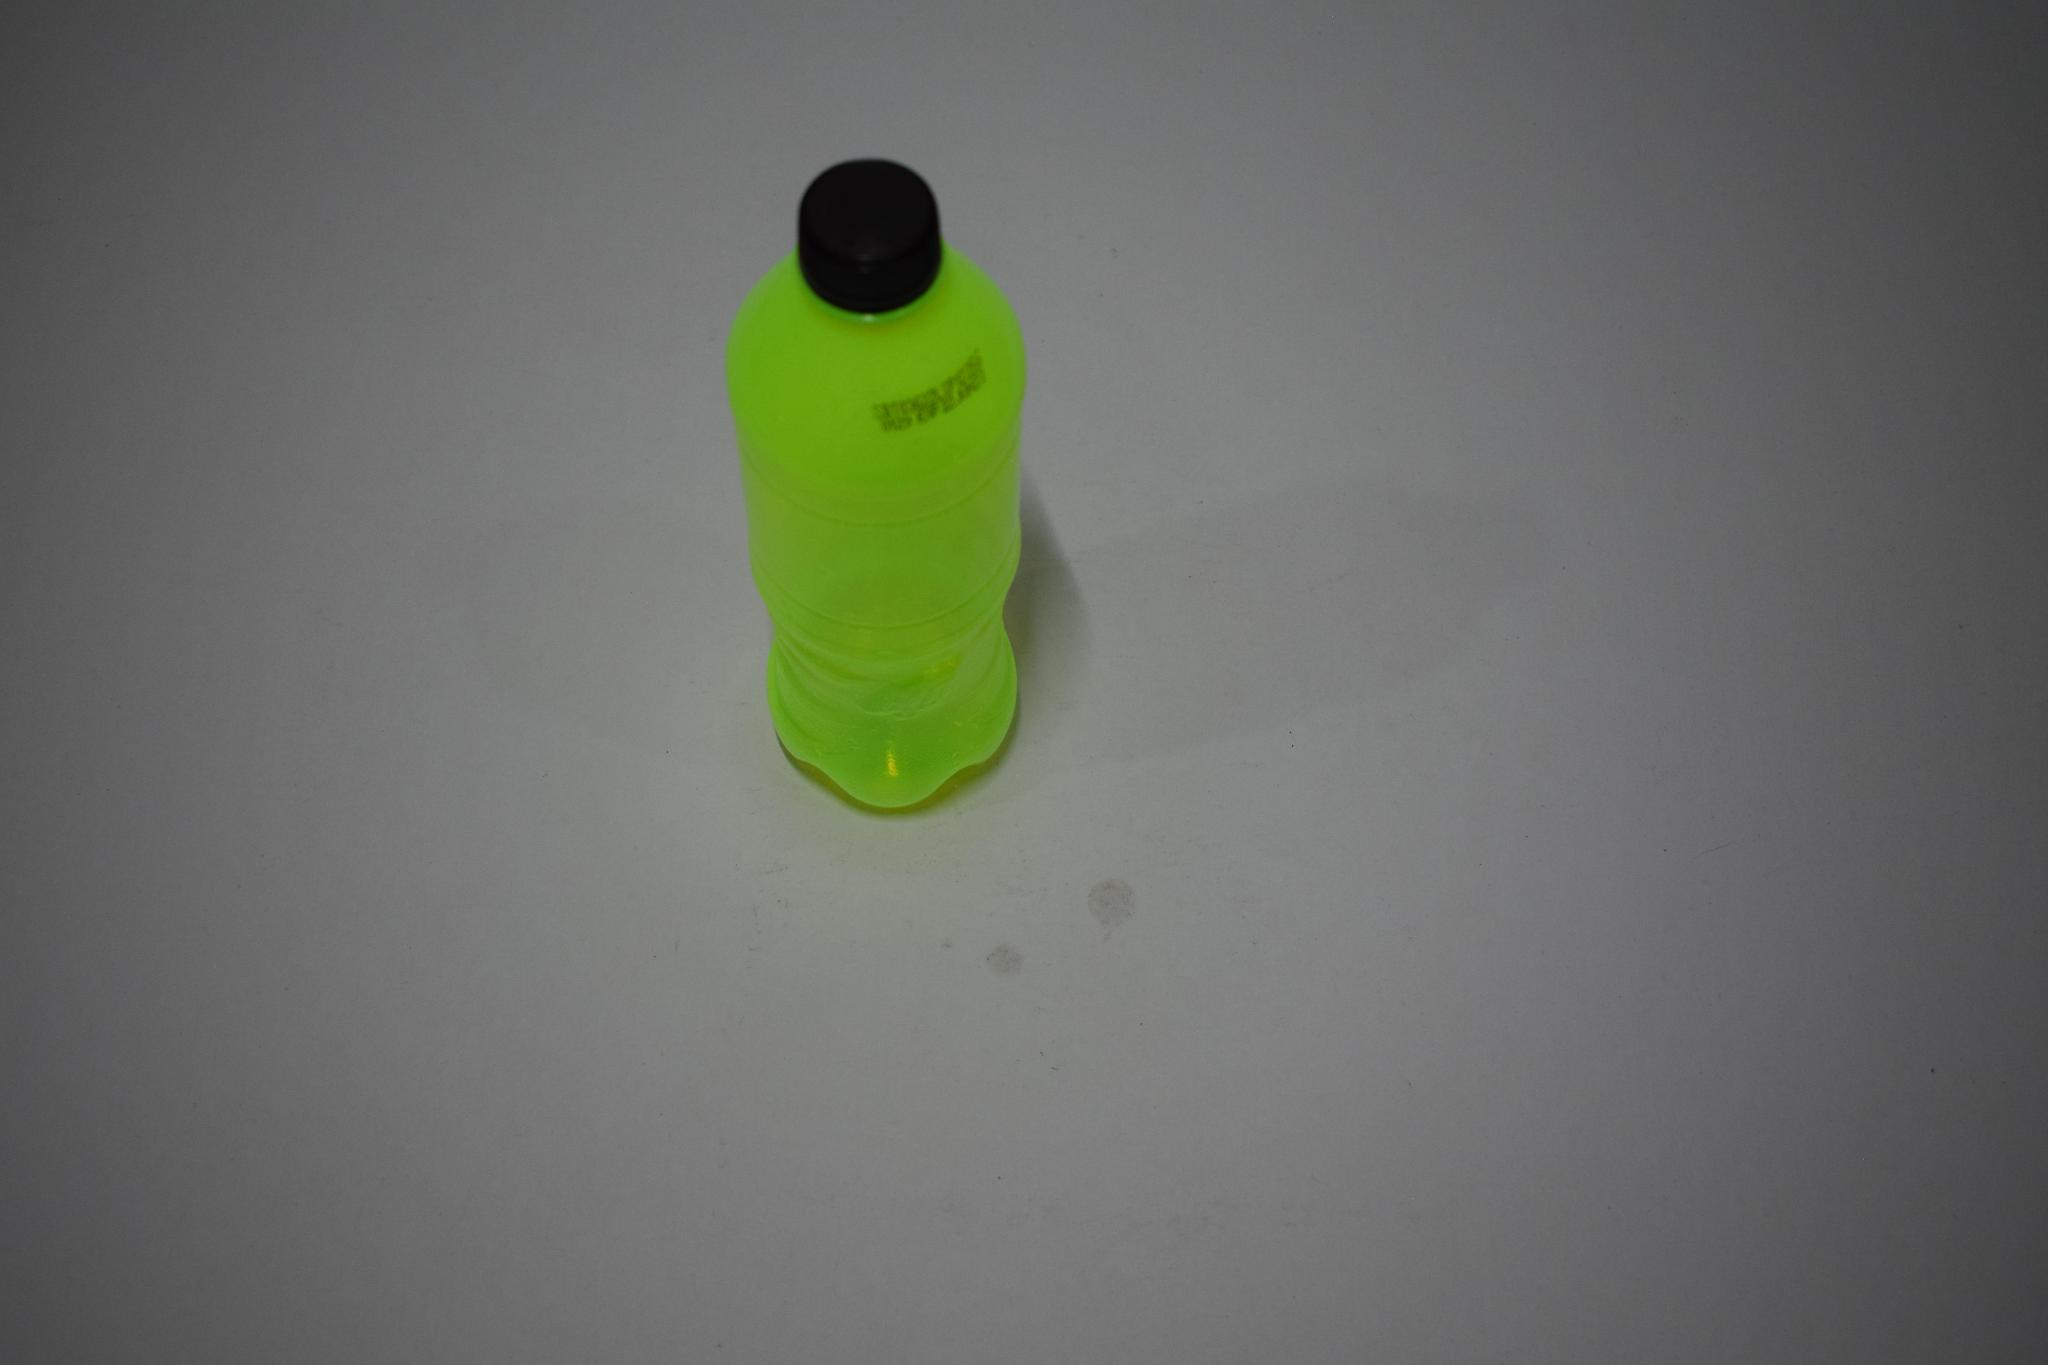bottle: (743, 154, 1043, 809)
